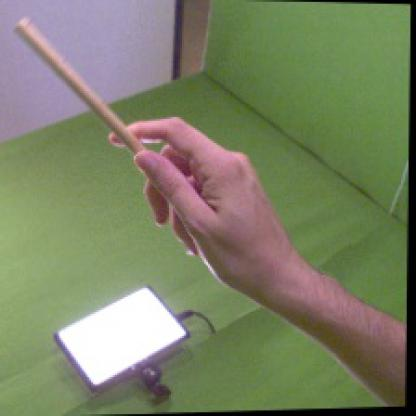Hand: (108, 115, 288, 300)
